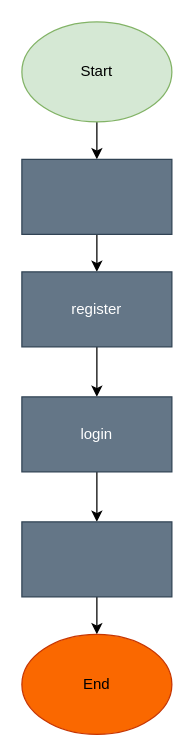
This 194x756 diagram has some shape labels left out. Here are the shapes that lost their labels. From the top down, the box of each, then its label:
(21, 158, 172, 234): Welcome screen
(21, 521, 172, 597): Home
